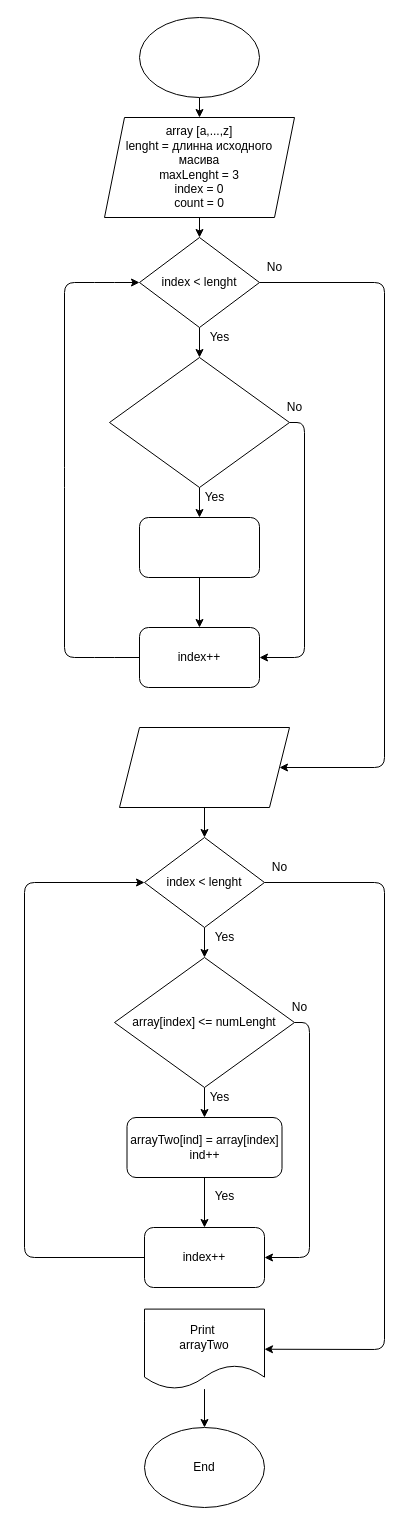
The diagram is 410 pixels wide and 1525 high, and some of its shapes have lost their labels. The shapes that lost their labels are listed below. From the top down, each one's box as (x1, y1, x2, y2) in pixels, then its label:
(138, 16, 260, 98): Start
(108, 356, 290, 488): array[index] <= maxLenght
(138, 516, 260, 578): count++
(118, 726, 290, 808): arrayTwo [a,...,z] lenghtTwo = count numLenght = 3 index = 0 ind = 0
